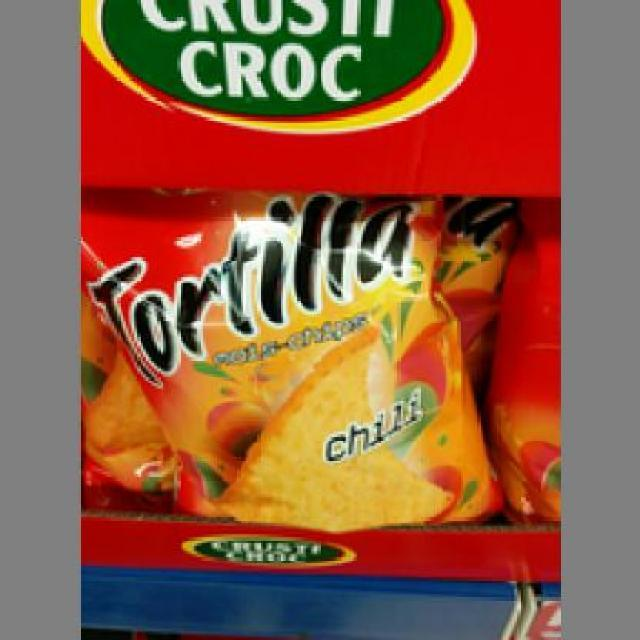Chips: (80, 183, 509, 526)
